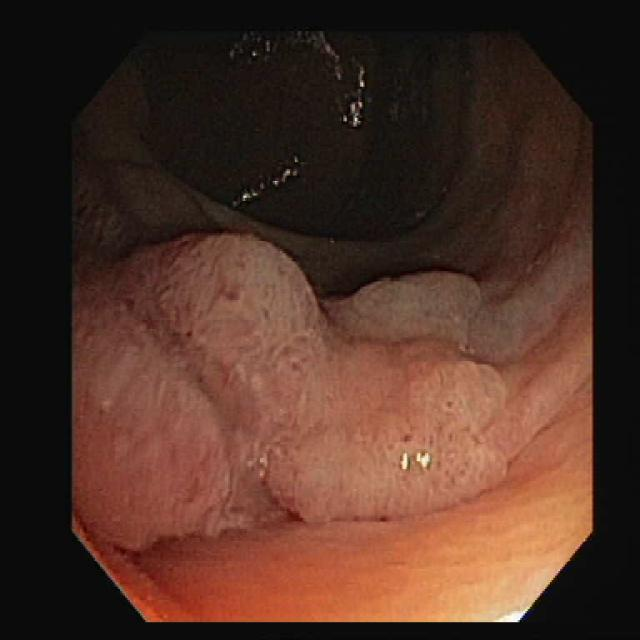tumor: (73, 246, 538, 549)
